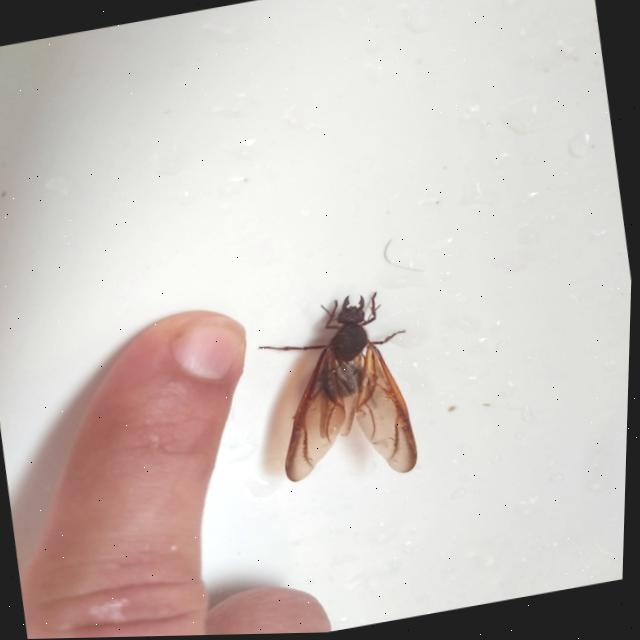Alive-Female-Alate: (247, 286, 435, 503)
